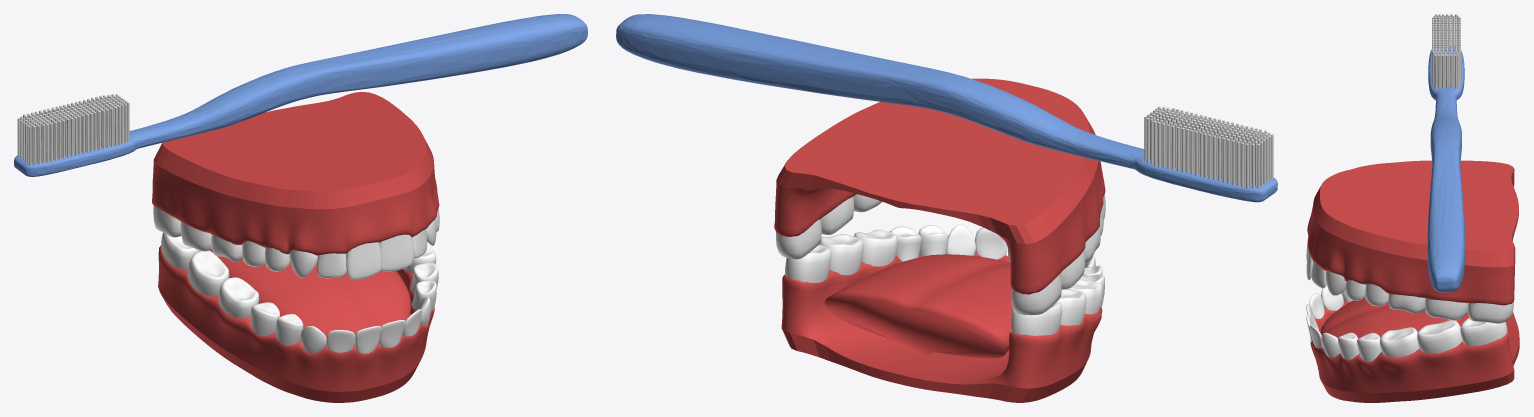
The model's file is animacion.gltf.
3 views of the same model, side by side, from view 1: azimuth 30°, elevation 25°; view 2: azimuth 150°, elevation 25°; view 3: azimuth 270°, elevation 25° (orthographic). The views are drawn at different scales.
Parts seen in each view (by area): view 1: Object_5, Mesh_2, Object_3, Object_6, Object_8, Object_7, Mesh_150; view 2: Object_5, Mesh_2, Object_3, Object_8, Object_6, Mesh_150, Object_7; view 3: Object_5, Object_3, Mesh_2, Object_6, Object_7, Object_8, Mesh_150.
Boxes of the visible parts, x1,y1,x2,y2 form: Object_5: [152, 92, 439, 255]; Mesh_2: [14, 14, 587, 176]; Object_3: [158, 245, 434, 402]; Object_6: [161, 232, 438, 353]; Object_8: [209, 250, 410, 346]; Object_7: [153, 206, 439, 279]; Mesh_150: [17, 94, 129, 165]; Object_5: [774, 78, 1105, 294]; Mesh_2: [616, 14, 1277, 202]; Object_3: [781, 252, 1102, 402]; Object_8: [824, 254, 1012, 358]; Object_6: [785, 224, 1104, 335]; Mesh_150: [1144, 106, 1273, 188]; Object_7: [776, 194, 1105, 315]; Object_5: [1307, 160, 1518, 305]; Object_3: [1310, 301, 1519, 402]; Mesh_2: [1427, 46, 1465, 292]; Object_6: [1306, 284, 1507, 362]; Object_7: [1306, 235, 1513, 323]; Object_8: [1320, 297, 1468, 338]; Mesh_150: [1432, 14, 1460, 88].
Bounding box in the file's own units: 5.2 × 2.57 × 1.98.
